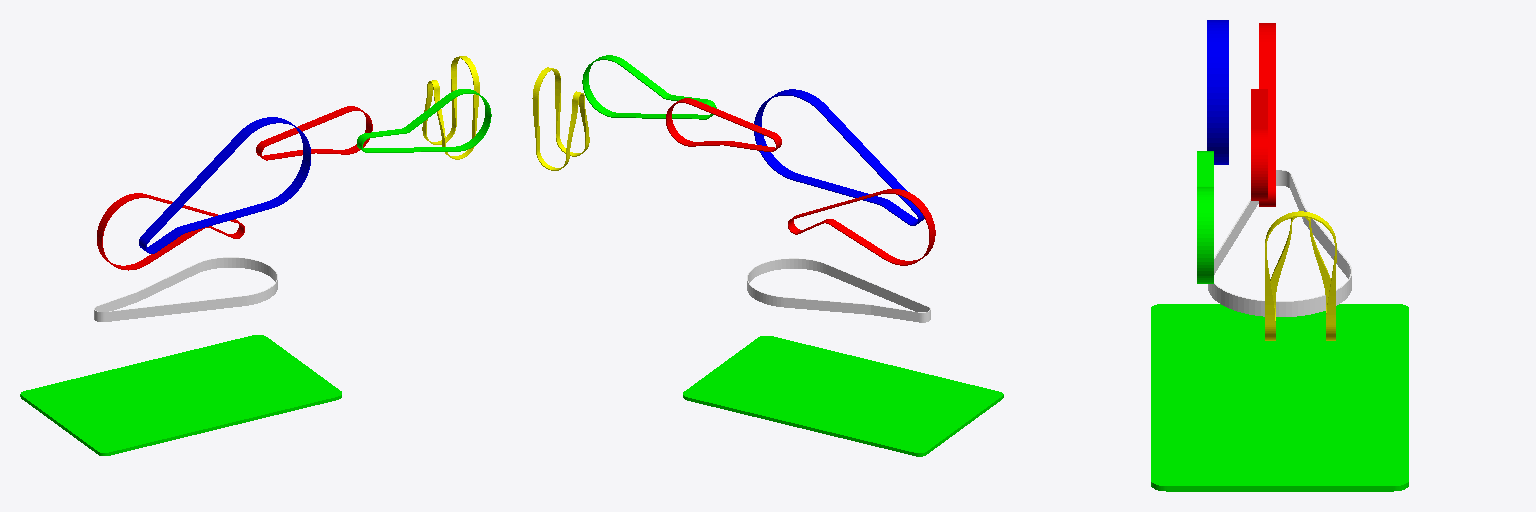
URDF robot description (robotarm):
<?xml version="1.0" ?>
<robot name="robotarm">
  <link name="BasePlate_1">
    <visual name="BasePlate_1_visual">
      <origin xyz="0 0 0" rpy="0 0 0"/>
      <geometry>
        <mesh filename="meshes/BasePlate_1.stl"/>
      </geometry>
      <material name="BasePlate_1-material">
        <color rgba="0 1 0 1"/>
      </material>
    </visual>
    <collision name="BasePlate_1_collision">
      <origin xyz="0 0 0" rpy="0 0 0"/>
      <geometry>
        <mesh filename="meshes/BasePlate_1.stl"/>
      </geometry>
    </collision>
    <inertial>
      <mass value="0"/>
      <inertia ixx="0" iyy="0" izz="0" ixy="0" ixz="0" iyz="0"/>
      <origin xyz="-0.07757999 0 -0.087" rpy="0 0 0"/>
    </inertial>
  </link>
  <link name="Base_1">
    <visual name="Base_1_visual">
      <origin xyz="0 0 0" rpy="0 0 0"/>
      <geometry>
        <mesh filename="meshes/Base_1.stl"/>
      </geometry>
      <material name="Base_1-material">
        <color rgba="1 0.5 0 1"/>
      </material>
    </visual>
    <collision name="Base_1_collision">
      <origin xyz="0 0 0" rpy="0 0 0"/>
      <geometry>
        <mesh filename="meshes/Base_1.stl"/>
      </geometry>
    </collision>
    <inertial>
      <mass value="3.4393887"/>
      <inertia ixx="0.018625078" iyy="0.048901916" izz="0.046962543" ixy="0.0045387471" ixz="-9.6698239e-05" iyz="0.00011748342"/>
      <origin xyz="-0.19233131 0.092676032 -0.00048571119" rpy="0 0 0"/>
    </inertial>
  </link>
  <link name="Shoulder_1">
    <visual name="Shoulder_1_visual">
      <origin xyz="0 0 0" rpy="0 0 0"/>
      <geometry>
        <mesh filename="meshes/Shoulder_1.stl"/>
      </geometry>
      <material name="Shoulder_1-material">
        <color rgba="0 0 1 1"/>
      </material>
    </visual>
    <collision name="Shoulder_1_collision">
      <origin xyz="0 0 0" rpy="0 0 0"/>
      <geometry>
        <mesh filename="meshes/Shoulder_1.stl"/>
      </geometry>
    </collision>
    <inertial>
      <mass value="3.8685868"/>
      <inertia ixx="0.0455963" iyy="0.049662008" izz="0.036142302" ixy="-0.0027311161" ixz="0.00083444863" iyz="0.00076739407"/>
      <origin xyz="-0.023034675 -0.0051026359 0.10410431" rpy="0 0 0"/>
    </inertial>
  </link>
  <link name="BaseBelt_657_1">
    <visual name="BaseBelt_657_1_visual">
      <origin xyz="0 0 0" rpy="0 0 0"/>
      <geometry>
        <mesh filename="meshes/BaseBelt_657_1.stl"/>
      </geometry>
      <material name="BaseBelt_657_1-material">
        <color rgba="1 1 1 1"/>
      </material>
    </visual>
    <collision name="BaseBelt_657_1_collision">
      <origin xyz="0 0 0" rpy="0 0 0"/>
      <geometry>
        <mesh filename="meshes/BaseBelt_657_1.stl"/>
      </geometry>
    </collision>
    <inertial>
      <mass value="0.015333728"/>
      <inertia ixx="0.00011799921" iyy="2.5903493e-05" izz="0.00014332769" ixy="-1.4061969e-06" ixz="0" iyz="0"/>
      <origin xyz="0.0012827332 0.063839416 -6.1845626e-11" rpy="0 0 0"/>
    </inertial>
  </link>
  <link name="Elbow_1">
    <visual name="Elbow_1_visual">
      <origin xyz="0 0 0" rpy="0 0 0"/>
      <geometry>
        <mesh filename="meshes/Elbow_1.stl"/>
      </geometry>
      <material name="Elbow_1-material">
        <color rgba="0 0 1 1"/>
      </material>
    </visual>
    <collision name="Elbow_1_collision">
      <origin xyz="0 0 0" rpy="0 0 0"/>
      <geometry>
        <mesh filename="meshes/Elbow_1.stl"/>
      </geometry>
    </collision>
    <inertial>
      <mass value="2.7123616"/>
      <inertia ixx="0.015568749" iyy="0.043969688" izz="0.034881602" ixy="-0.00019508348" ixz="-0.001626311" iyz="-4.32451e-05"/>
      <origin xyz="0.11414173 -0.00045013304 -0.092038324" rpy="0 0 0"/>
    </inertial>
  </link>
  <link name="ShoulderBeltDriving_537_1">
    <visual name="ShoulderBeltDriving_537_1_visual">
      <origin xyz="0 0 0" rpy="0 0 0"/>
      <geometry>
        <mesh filename="meshes/ShoulderBeltDriving_537_1.stl"/>
      </geometry>
      <material name="ShoulderBeltDriving_537_1-material">
        <color rgba="1 0 0 1"/>
      </material>
    </visual>
    <collision name="ShoulderBeltDriving_537_1_collision">
      <origin xyz="0 0 0" rpy="0 0 0"/>
      <geometry>
        <mesh filename="meshes/ShoulderBeltDriving_537_1.stl"/>
      </geometry>
    </collision>
    <inertial>
      <mass value="0.012963036"/>
      <inertia ixx="1.4908304e-05" iyy="6.560604e-05" izz="8.002823e-05" ixy="8.187628e-06" ixz="0" iyz="0"/>
      <origin xyz="-0.052061734 0.0069305863 7.7139283e-13" rpy="0 0 0"/>
    </inertial>
  </link>
  <link name="ShoulderBeltDriven_657_1">
    <visual name="ShoulderBeltDriven_657_1_visual">
      <origin xyz="0 0 0" rpy="0 0 0"/>
      <geometry>
        <mesh filename="meshes/ShoulderBeltDriven_657_1.stl"/>
      </geometry>
      <material name="ShoulderBeltDriven_657_1-material">
        <color rgba="0 0 1 1"/>
      </material>
    </visual>
    <collision name="ShoulderBeltDriven_657_1_collision">
      <origin xyz="0 0 0" rpy="0 0 0"/>
      <geometry>
        <mesh filename="meshes/ShoulderBeltDriven_657_1.stl"/>
      </geometry>
    </collision>
    <inertial>
      <mass value="0.020354711"/>
      <inertia ixx="4.9898785e-05" iyy="0.00013777319" izz="0.000186315" ixy="-4.1021433e-05" ixz="1.1157532e-16" iyz="0"/>
      <origin xyz="0.12647398 0.054920364 -1.0730945e-13" rpy="0 0 0"/>
    </inertial>
  </link>
  <link name="Forearm_1">
    <visual name="Forearm_1_visual">
      <origin xyz="0 0 0" rpy="0 0 0"/>
      <geometry>
        <mesh filename="meshes/Forearm_1.stl"/>
      </geometry>
      <material name="Forearm_1-material">
        <color rgba="1 1 1 1"/>
      </material>
    </visual>
    <collision name="Forearm_1_collision">
      <origin xyz="0 0 0" rpy="0 0 0"/>
      <geometry>
        <mesh filename="meshes/Forearm_1.stl"/>
      </geometry>
    </collision>
    <inertial>
      <mass value="2.7004218"/>
      <inertia ixx="0.032845701" iyy="0.0089099153" izz="0.031656688" ixy="0.0012593028" ixz="-7.5458294e-05" iyz="0.00083880348"/>
      <origin xyz="-0.0079134694 0.083837233 -0.11270276" rpy="0 0 0"/>
    </inertial>
  </link>
  <link name="ElbowBeltDriving_399_1">
    <visual name="ElbowBeltDriving_399_1_visual">
      <origin xyz="0 0 0" rpy="0 0 0"/>
      <geometry>
        <mesh filename="meshes/ElbowBeltDriving_399_1.stl"/>
      </geometry>
      <material name="ElbowBeltDriving_399_1-material">
        <color rgba="1 0 0 1"/>
      </material>
    </visual>
    <collision name="ElbowBeltDriving_399_1_collision">
      <origin xyz="0 0 0" rpy="0 0 0"/>
      <geometry>
        <mesh filename="meshes/ElbowBeltDriving_399_1.stl"/>
      </geometry>
    </collision>
    <inertial>
      <mass value="0.0094055612"/>
      <inertia ixx="4.3491598e-06" iyy="2.8878522e-05" izz="3.2874973e-05" ixy="-1.8845622e-07" ixz="0" iyz="0"/>
      <origin xyz="-0.08091412 0.00070768069 -1.6585863e-16" rpy="0 0 0"/>
    </inertial>
  </link>
  <link name="ElbowBeltDriven_480_1">
    <visual name="ElbowBeltDriven_480_1_visual">
      <origin xyz="0 0 0" rpy="0 0 0"/>
      <geometry>
        <mesh filename="meshes/ElbowBeltDriven_480_1.stl"/>
      </geometry>
      <material name="ElbowBeltDriven_480_1-material">
        <color rgba="0 1 0 1"/>
      </material>
    </visual>
    <collision name="ElbowBeltDriven_480_1_collision">
      <origin xyz="0 0 0" rpy="0 0 0"/>
      <geometry>
        <mesh filename="meshes/ElbowBeltDriven_480_1.stl"/>
      </geometry>
    </collision>
    <inertial>
      <mass value="0.011213862"/>
      <inertia ixx="7.8915651e-06" iyy="4.6056832e-05" izz="5.3527877e-05" ixy="1.1143546e-06" ixz="0" iyz="0"/>
      <origin xyz="-0.097351122 -0.0026630787 -3.1427118e-14" rpy="0 0 0"/>
    </inertial>
  </link>
  <link name="WTFBelt_1">
    <visual name="WTFBelt_1_visual">
      <origin xyz="0 0 0" rpy="0 0 0"/>
      <geometry>
        <mesh filename="meshes/WTFBelt_1.stl"/>
      </geometry>
      <material name="WTFBelt_1-material">
        <color rgba="1 1 0 1"/>
      </material>
    </visual>
    <collision name="WTFBelt_1_collision">
      <origin xyz="0 0 0" rpy="0 0 0"/>
      <geometry>
        <mesh filename="meshes/WTFBelt_1.stl"/>
      </geometry>
    </collision>
    <inertial>
      <mass value="0.011060883"/>
      <inertia ixx="1.2466894e-05" iyy="2.0544945e-05" izz="2.1149053e-05" ixy="4.3296078e-11" ixz="-1.6729646e-06" iyz="6.2676763e-12"/>
      <origin xyz="0.040411061 -2.1743118e-08 -0.027192945" rpy="0 0 0"/>
    </inertial>
  </link>
  <joint name="fix_base" type="fixed">
    <origin xyz="0.03742001 0 -0.178" rpy="1.5707963 0 0"/>
    <parent link="BasePlate_1"/>
    <child link="Base_1"/>
  </joint>
  <joint name="dof_Axis1" type="revolute">
    <origin xyz="-0.115 0.137 -3.571554e-34" rpy="-1.5707963 0 0"/>
    <parent link="Base_1"/>
    <child link="Shoulder_1"/>
    <axis xyz="0 0 -1"/>
    <limit effort="1" velocity="1" lower="-3.1415927" upper="3.1415927"/>
  </joint>
  <joint name="fix_BaseBeltDriving" type="fixed">
    <origin xyz="-0.115 0.155 -3.3918365e-34" rpy="1.5707963 -1.5707963 0"/>
    <parent link="Base_1"/>
    <child link="BaseBelt_657_1"/>
  </joint>
  <joint name="dof_Axis2" type="revolute">
    <origin xyz="0.025 -0.094 0.213" rpy="1.5707963 0 -1.8922194e-09"/>
    <parent link="Shoulder_1"/>
    <child link="Elbow_1"/>
    <axis xyz="0 0 -1"/>
    <limit effort="1" velocity="1" lower="-2.7925268" upper="0.34906585"/>
  </joint>
  <joint name="fix_ShoulderBeltDriving" type="fixed">
    <origin xyz="-0.16 -0.011 0.1355" rpy="-1.5707963 0 3.1415927"/>
    <parent link="Shoulder_1"/>
    <child link="ShoulderBeltDriving_537_1"/>
  </joint>
  <joint name="fix_ShoulderBeltDriven" type="fixed">
    <origin xyz="-0.16 -0.055 0.1355" rpy="1.5707963 0 -1.8922194e-09"/>
    <parent link="Shoulder_1"/>
    <child link="ShoulderBeltDriven_657_1"/>
  </joint>
  <joint name="dof_Axis3" type="revolute">
    <origin xyz="0.3 -0.0002 0.004" rpy="0 0 -1.5707963"/>
    <parent link="Elbow_1"/>
    <child link="Forearm_1"/>
    <axis xyz="0 0 -1"/>
    <limit effort="1" velocity="1" lower="-2.0943951" upper="2.268928"/>
  </joint>
  <joint name="fix_ElbowBeltDriving" type="fixed">
    <origin xyz="0.02 0 -0.076" rpy="3.1415927 0 3.1415927"/>
    <parent link="Elbow_1"/>
    <child link="ElbowBeltDriving_399_1"/>
  </joint>
  <joint name="fix_ElbowBeltDriven" type="fixed">
    <origin xyz="0.151 -0.0002 -0.028" rpy="3.1415927 0 3.1415927"/>
    <parent link="Elbow_1"/>
    <child link="ElbowBeltDriven_480_1"/>
  </joint>
  <joint name="fix_Stage4Belt" type="fixed">
    <origin xyz="-0.015 0.005 -0.1165" rpy="1.5707963 0 0"/>
    <parent link="Forearm_1"/>
    <child link="WTFBelt_1"/>
  </joint>
</robot>

--- Render facts (derived) ---
The picture shows the robot from 3 angles, left to right: view 1: azimuth 30°, elevation 25°; view 2: azimuth 150°, elevation 25°; view 3: azimuth 270°, elevation 25°; orthographic projection.
Model robotarm with 11 links and 10 joints (3 revolute, 7 fixed), rooted at BasePlate_1, posed every joint at zero.
Links seen in each view (by area): view 1: BasePlate_1, BaseBelt_657_1, ShoulderBeltDriven_657_1, ElbowBeltDriven_480_1, WTFBelt_1, ShoulderBeltDriving_537_1, ElbowBeltDriving_399_1; view 2: BasePlate_1, BaseBelt_657_1, ShoulderBeltDriven_657_1, ShoulderBeltDriving_537_1, WTFBelt_1, ElbowBeltDriven_480_1, ElbowBeltDriving_399_1; view 3: BasePlate_1, BaseBelt_657_1, ShoulderBeltDriven_657_1, WTFBelt_1, ElbowBeltDriven_480_1, ShoulderBeltDriving_537_1, ElbowBeltDriving_399_1.
Boxes of the visible links, <box> form: BasePlate_1: <box>20,335,341,455</box>; BaseBelt_657_1: <box>94,257,277,321</box>; ShoulderBeltDriven_657_1: <box>139,117,310,253</box>; ElbowBeltDriven_480_1: <box>357,89,491,152</box>; WTFBelt_1: <box>422,56,479,159</box>; ShoulderBeltDriving_537_1: <box>97,193,244,270</box>; ElbowBeltDriving_399_1: <box>256,106,372,160</box>; BasePlate_1: <box>683,336,1003,456</box>; BaseBelt_657_1: <box>747,258,930,322</box>; ShoulderBeltDriven_657_1: <box>754,89,924,225</box>; ShoulderBeltDriving_537_1: <box>788,189,935,265</box>; WTFBelt_1: <box>532,67,589,170</box>; ElbowBeltDriven_480_1: <box>582,55,716,119</box>; ElbowBeltDriving_399_1: <box>666,98,781,151</box>; BasePlate_1: <box>1151,304,1408,491</box>; BaseBelt_657_1: <box>1208,170,1351,316</box>; ShoulderBeltDriven_657_1: <box>1207,20,1228,164</box>; WTFBelt_1: <box>1265,211,1336,340</box>; ElbowBeltDriven_480_1: <box>1197,151,1213,283</box>; ShoulderBeltDriving_537_1: <box>1259,23,1275,206</box>; ElbowBeltDriving_399_1: <box>1251,89,1267,200</box>.
Size in the robot's own frame: 0.6545 by 0.23 by 0.4143 metres.
7 mesh visuals loaded from 11 distinct referenced files (7 binary STL); not drawn: 4 (reference not matched to a file when rendering).
